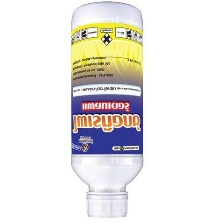insecticide: (64, 0, 148, 220)
